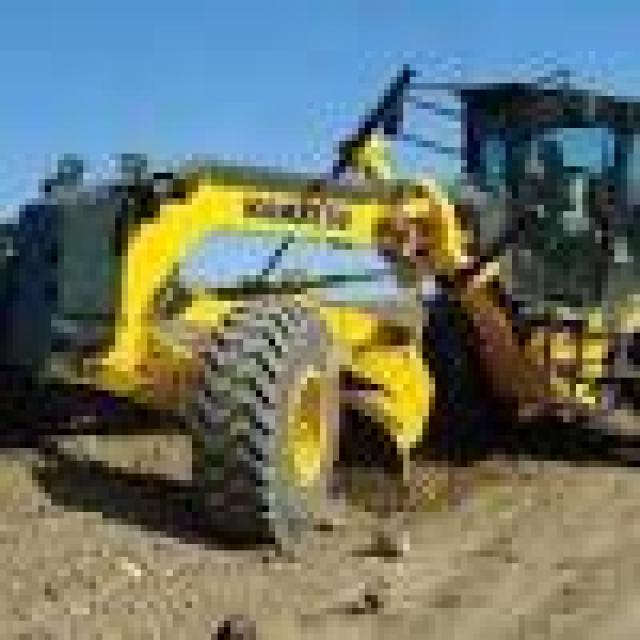Grader: (32, 64, 634, 570)
